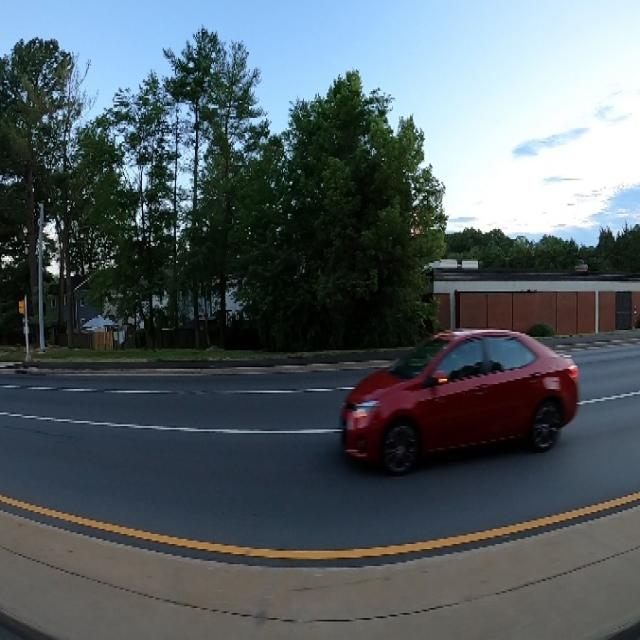cars: (330, 308, 586, 472)
